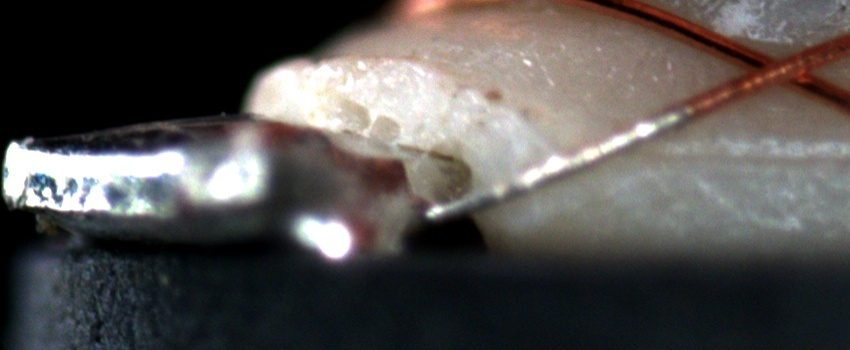CL: (725, 40, 822, 97)
DL: (632, 126, 850, 190)
TS: (425, 105, 690, 218)
TTCW: (411, 67, 728, 226)
